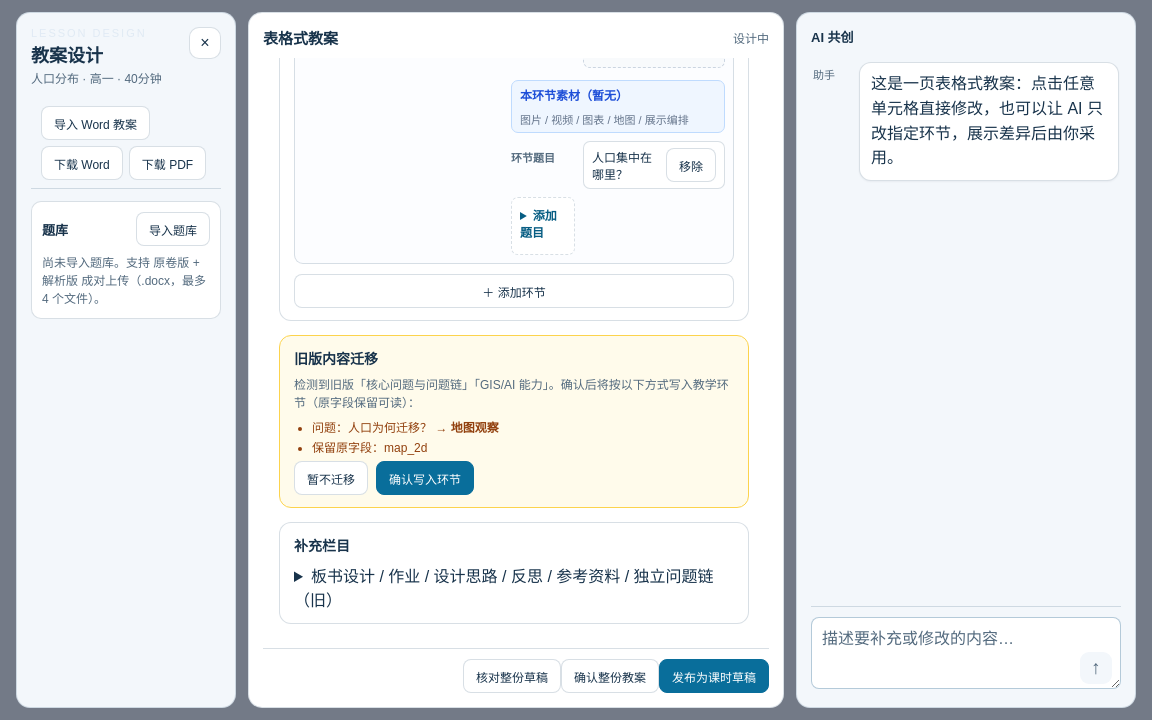
Scenario: LessonDesignWorkspace（一页表格式教案） › shows the migration card for legacy drafts and applies it once
(page scrolled)
expect the element with test id "ldw-migration" shows "人口为何迁移？": met, box [348,421,432,435]
expect the element with test id "ldw-migration" shows "保留原字段": met, box [312,441,372,455]
Click the button with test id "ldw-migration-apply" at (425, 478), box [376,461,474,495]
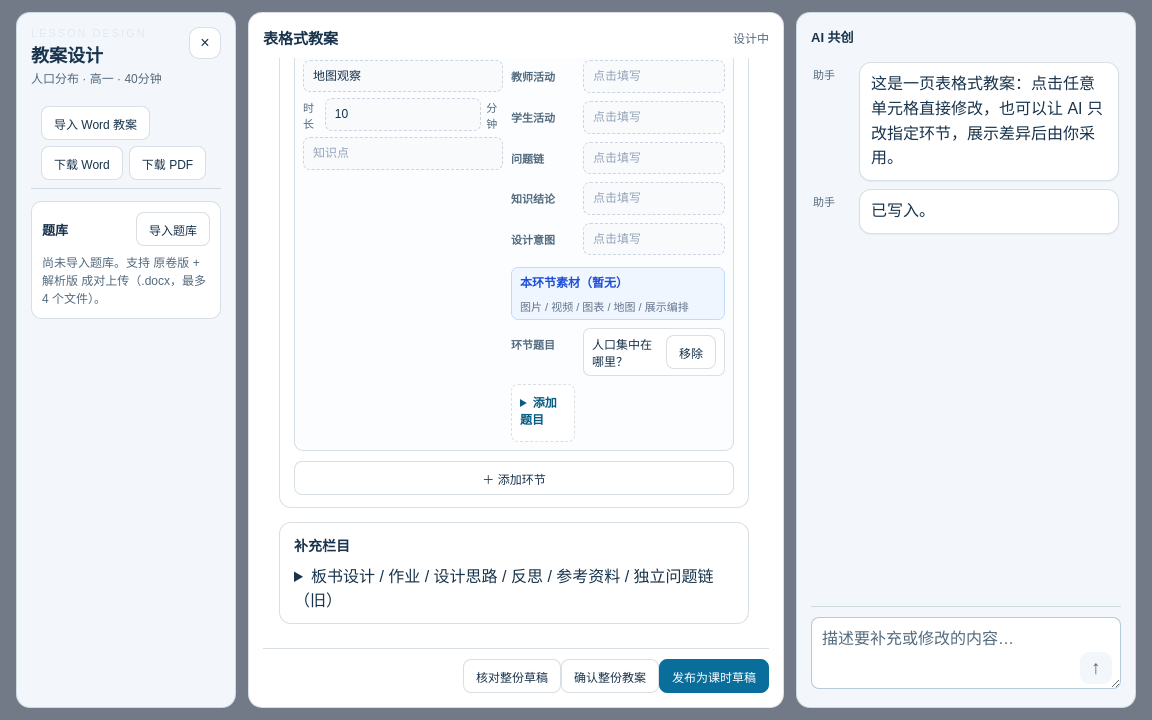
expect the element with test id "ldw-migration" is gone: met
